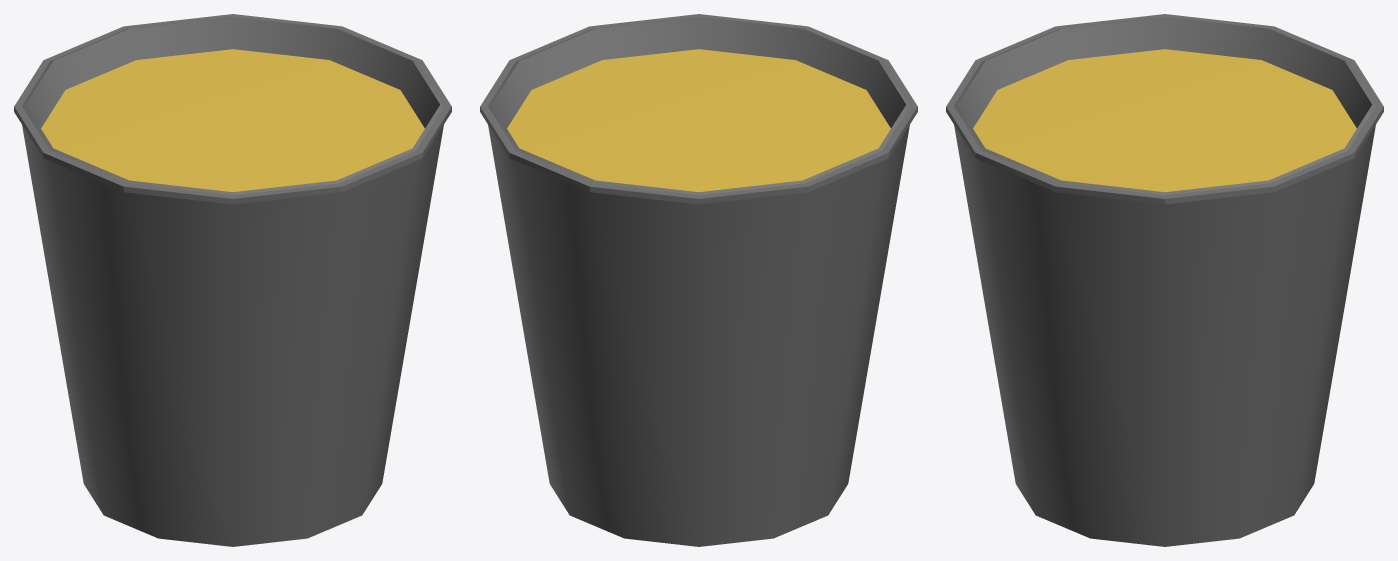
File: BucketFull_TFSGJ_Spring2025.fbx
The picture shows the model from 3 angles, left to right: view 1: azimuth 30°, elevation 25°; view 2: azimuth 150°, elevation 25°; view 3: azimuth 270°, elevation 25°; orthographic projection.
Visible parts, largest first — view 1: Full Bucket; view 2: Full Bucket; view 3: Full Bucket.
Part boxes in pixels (bbox=[...]): Full Bucket: bbox=[14, 14, 451, 546]; Full Bucket: bbox=[480, 14, 917, 546]; Full Bucket: bbox=[946, 14, 1383, 546].
Size of the model in its own units: 21.66 by 20.71 by 21.66.
